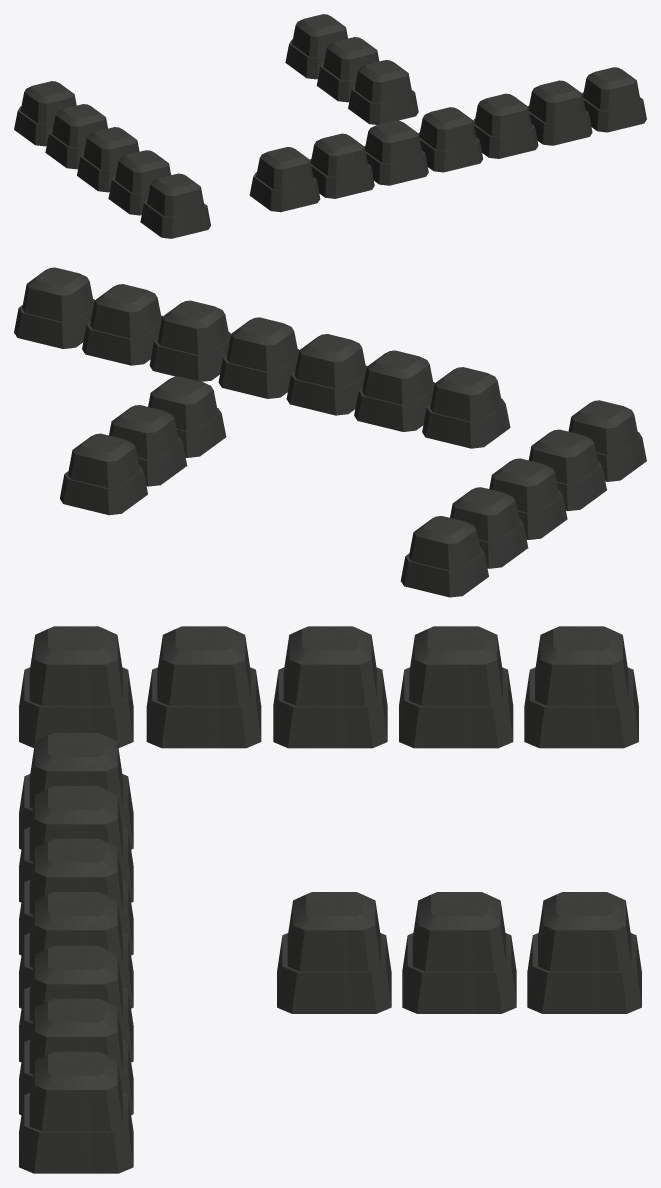
The model's file is Blockline.fbx.
3 views of the same model, one above another, from view 1: azimuth 30°, elevation 25°; view 2: azimuth 150°, elevation 25°; view 3: azimuth 270°, elevation 25° (orthographic). The views are drawn at different scales.
Visible parts, largest first — view 1: Cylinder.162; view 2: Cylinder.162; view 3: Cylinder.162.
Boxes of the visible parts, box(x1,y1,x2,y2) form: Cylinder.162: box(14, 14, 646, 238); Cylinder.162: box(14, 267, 646, 597); Cylinder.162: box(19, 626, 641, 1173).
Size of the model in its own units: 766 by 64.67 by 425.
